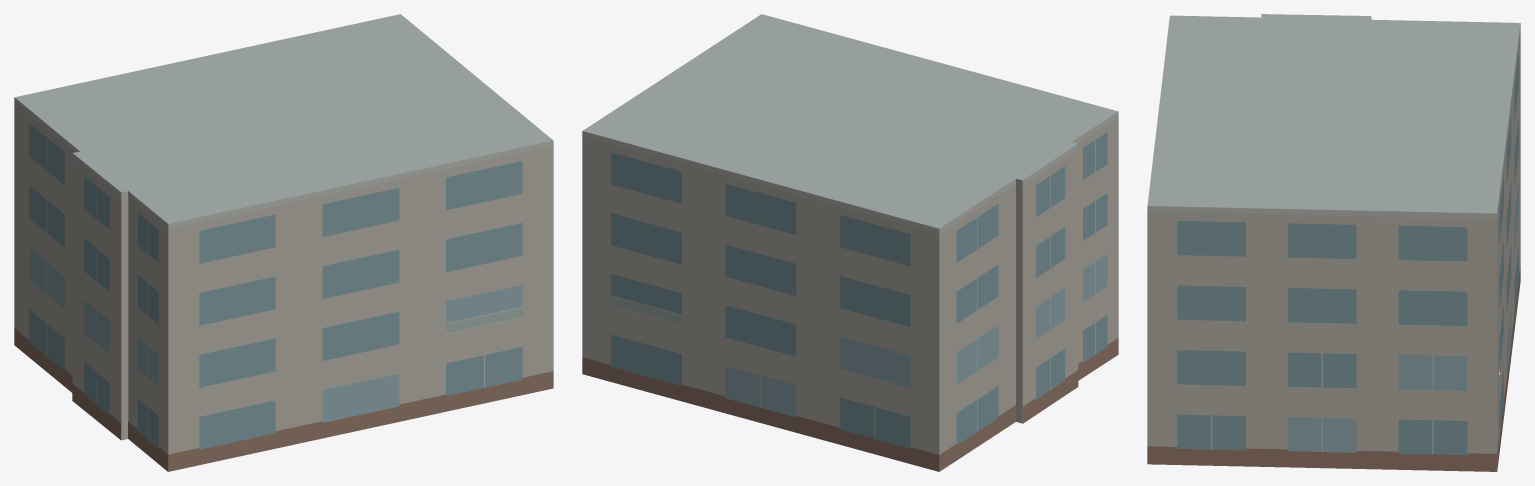
Rendered from survey-upis-32471867.glb.
3 renders of one model, left to right at view 1: azimuth 30°, elevation 25°; view 2: azimuth 150°, elevation 25°; view 3: azimuth 270°, elevation 25°, orthographic. The views are drawn at different scales.
Parts seen in each view (by area): view 1: survey-upis-32471867.tmp; view 2: survey-upis-32471867.tmp; view 3: survey-upis-32471867.tmp.
Boxes of the visible parts, x1,y1,x2,y2 form: survey-upis-32471867.tmp: (14,14,553,471); survey-upis-32471867.tmp: (582,14,1118,471); survey-upis-32471867.tmp: (1147,14,1520,471).
Size of the model in its own units: 18.9 by 11.4 by 14.93.
